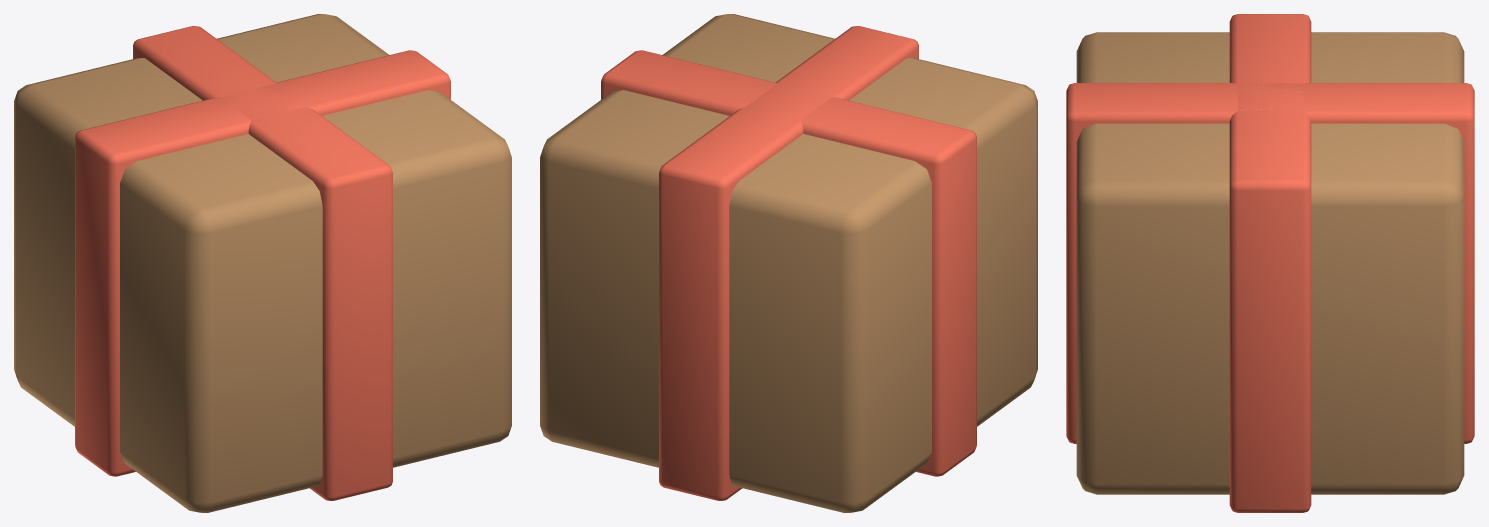
File: Collab_PackageBox.fbx
3 renders of one model, left to right at view 1: azimuth 30°, elevation 25°; view 2: azimuth 150°, elevation 25°; view 3: azimuth 270°, elevation 25°, orthographic. The views are drawn at different scales.
Parts seen in each view (by area): view 1: Package_Cube, Package_RibbonY, Package_RibbonX; view 2: Package_Cube, Package_RibbonY, Package_RibbonX; view 3: Package_Cube, Package_RibbonX, Package_RibbonY.
Boxes of the visible parts, x1=… form: Package_Cube: x1=14, y1=14, x2=511, y2=512; Package_RibbonY: x1=133, y1=26, x2=392, y2=500; Package_RibbonX: x1=75, y1=50, x2=450, y2=476; Package_Cube: x1=540, y1=14, x2=1037, y2=512; Package_RibbonY: x1=659, y1=26, x2=918, y2=500; Package_RibbonX: x1=601, y1=50, x2=976, y2=476; Package_Cube: x1=1076, y1=32, x2=1464, y2=494; Package_RibbonX: x1=1229, y1=14, x2=1311, y2=512; Package_RibbonY: x1=1066, y1=83, x2=1474, y2=443.
Bounding box in the file's own units: 4 × 3.6 × 4.
